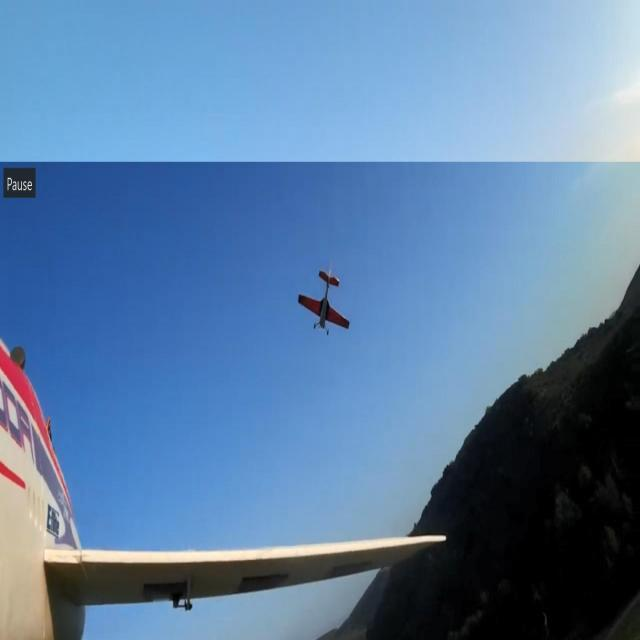UAV: (293, 258, 385, 354)
